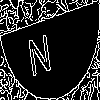N: (25, 24, 53, 77)
